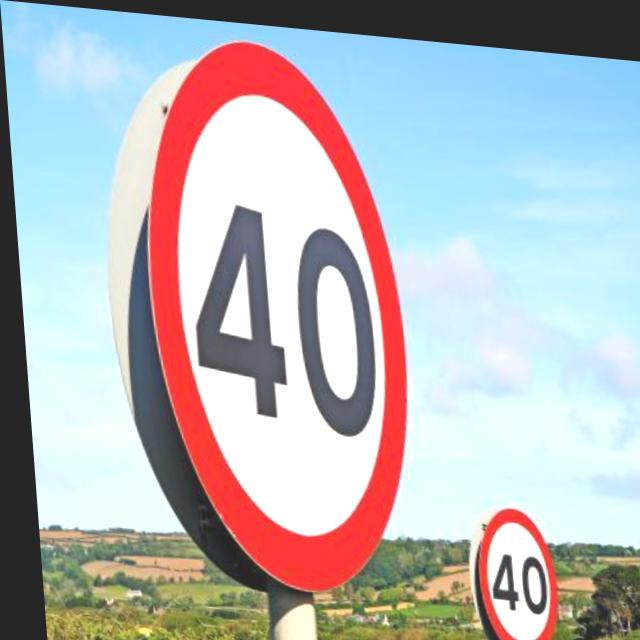limit40: (131, 29, 419, 604), (461, 491, 560, 640)
